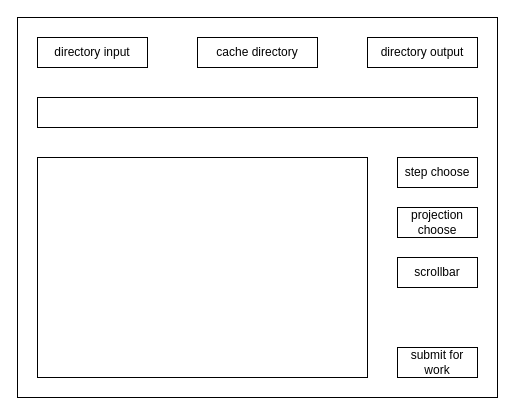
Image size: 515x415. Some labels were removed from this diagram. Here are the shapes that lost their labels. From the top down, the centre of each, then its label:
(x=257, y=112): steps bar
(x=202, y=267): 3d-images viewer as a slides
